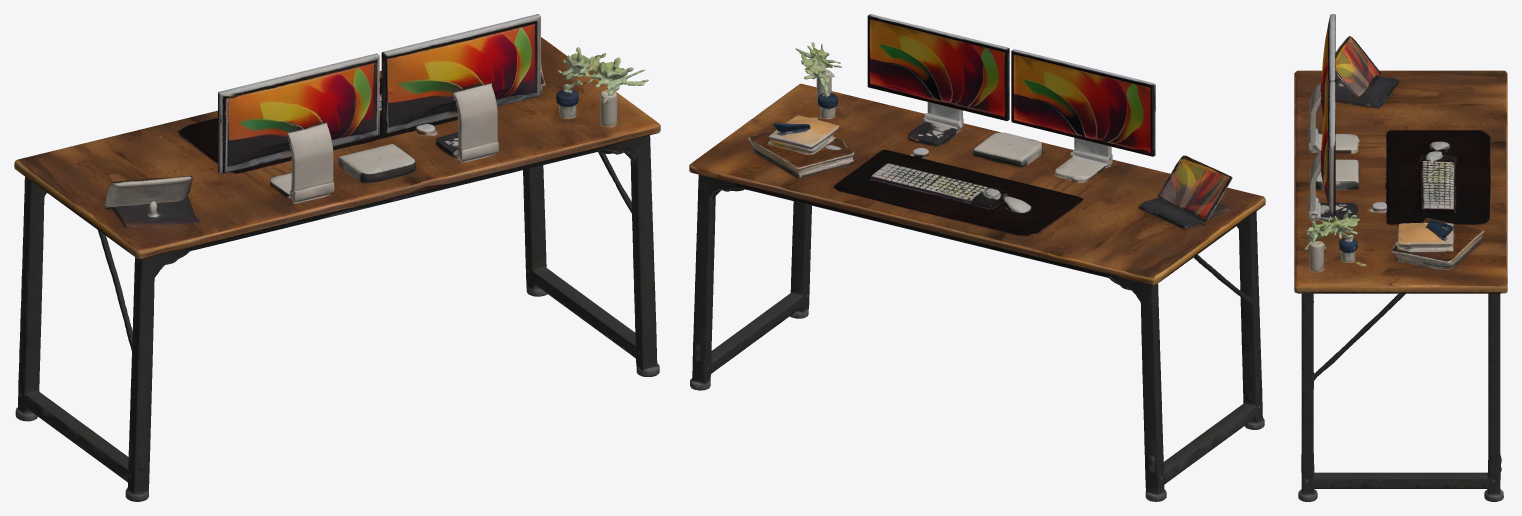
File: B0CS3K9CWC.glb
3 views of the same model, side by side, from view 1: azimuth 30°, elevation 25°; view 2: azimuth 150°, elevation 25°; view 3: azimuth 270°, elevation 25° (orthographic). The views are drawn at different scales.
Parts seen in each view (by area): view 1: tripo_node_b2695750-b4a6-44ac-b26b-a84e9b94fae2; view 2: tripo_node_b2695750-b4a6-44ac-b26b-a84e9b94fae2; view 3: tripo_node_b2695750-b4a6-44ac-b26b-a84e9b94fae2.
Part boxes in pixels (x1,y1,x2,y2): tripo_node_b2695750-b4a6-44ac-b26b-a84e9b94fae2: [14, 14, 660, 501]; tripo_node_b2695750-b4a6-44ac-b26b-a84e9b94fae2: [689, 14, 1265, 501]; tripo_node_b2695750-b4a6-44ac-b26b-a84e9b94fae2: [1294, 14, 1507, 501].
Bounding box in the file's own units: 1 × 0.6663 × 0.411.
Materials: 1 (1 with a texture image).
